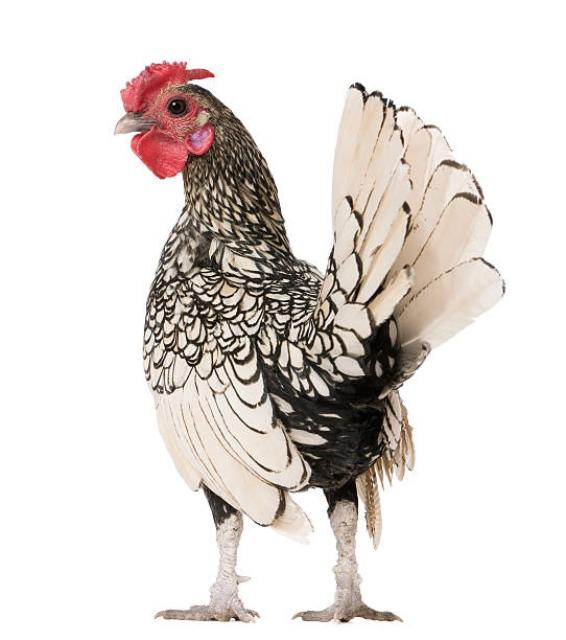Chicken: (116, 59, 507, 624)
